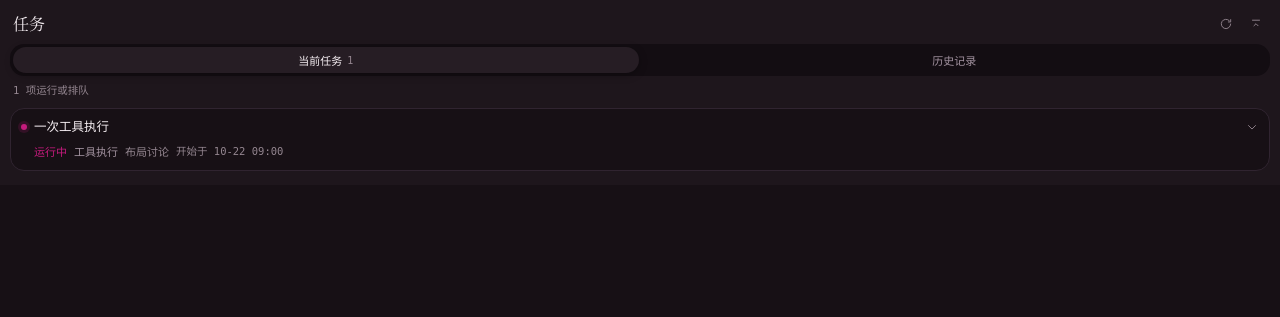
Test case: 排序、去重与展开 › 切换当前/历史后回来，展开状态仍保留
Click the button with class "task-trigger".
click(72, 126)  # box 34,118 -> 1259,137
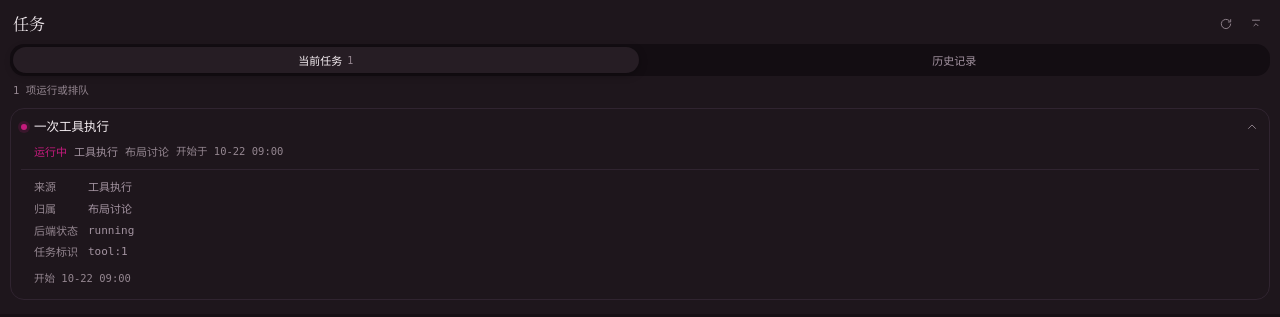
Expected: the number of elements with class "task-detail" is 1, 21,169 -> 1259,290
Click the tab "历史记录".
click(954, 60)  # box 642,47 -> 1267,73
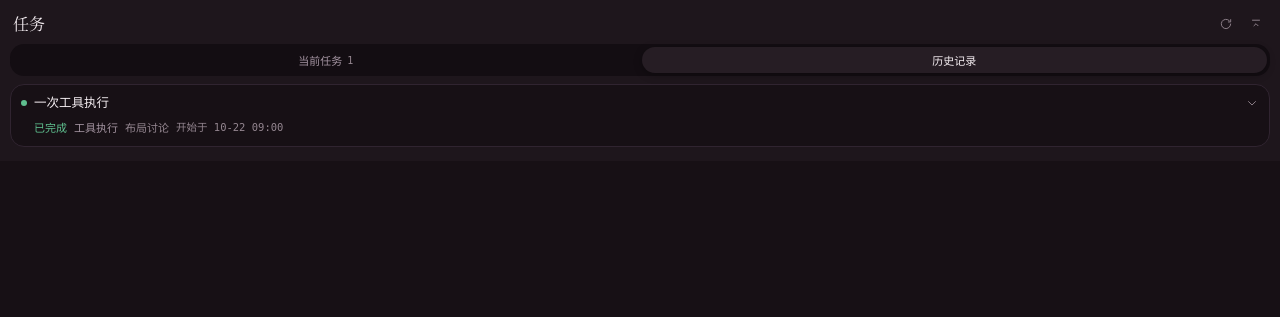
Click the tab "当前任务 1".
click(326, 60)  # box 13,47 -> 638,73
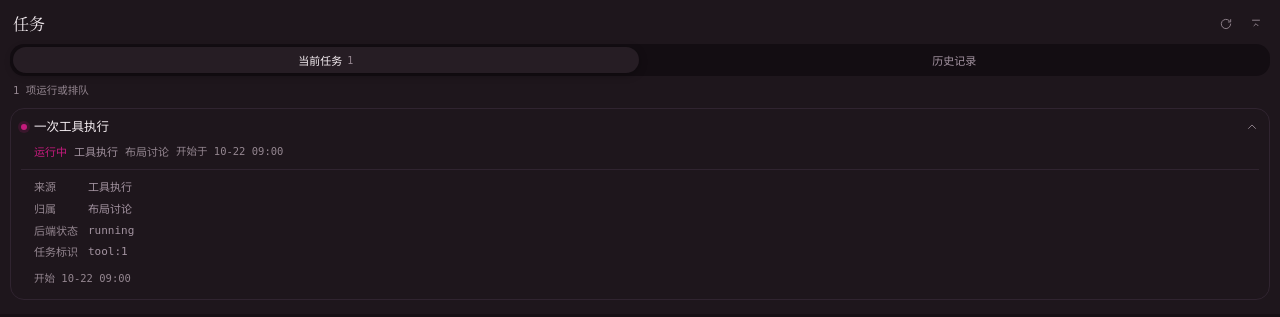
Expected: the number of elements with class "task-detail" is 1, 21,169 -> 1259,290
